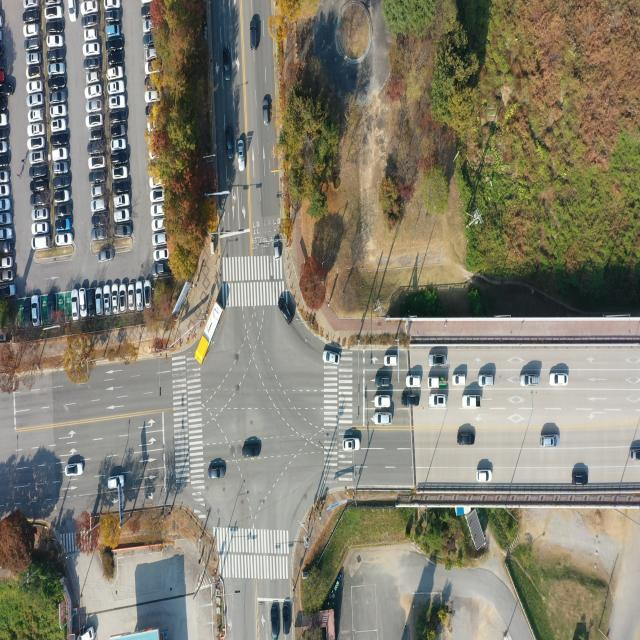car: (278, 298, 293, 326), (51, 132, 71, 148), (250, 17, 259, 51), (0, 284, 16, 301), (106, 36, 123, 52), (222, 51, 231, 81), (550, 374, 569, 388), (271, 607, 279, 640), (46, 293, 55, 322), (108, 474, 124, 490), (242, 446, 260, 460), (540, 436, 558, 450), (79, 626, 97, 640), (32, 297, 40, 327), (283, 606, 291, 636), (32, 237, 49, 251), (429, 394, 446, 408), (45, 6, 62, 20), (322, 352, 339, 366), (375, 414, 393, 427), (66, 463, 84, 476), (522, 375, 540, 388), (401, 394, 419, 407), (84, 0, 100, 14), (109, 97, 125, 111), (24, 25, 40, 39), (110, 126, 126, 140), (108, 52, 124, 66), (238, 140, 245, 172), (24, 300, 32, 328), (344, 440, 361, 453), (111, 168, 128, 181), (225, 127, 232, 158), (428, 355, 446, 367), (462, 396, 480, 408), (128, 284, 136, 311), (50, 76, 68, 88), (106, 25, 121, 39), (25, 38, 40, 52), (572, 471, 587, 485), (153, 264, 168, 278), (88, 155, 103, 169), (48, 63, 64, 76), (28, 95, 44, 108), (376, 395, 392, 408), (56, 219, 72, 232), (458, 435, 474, 448), (56, 190, 72, 203), (57, 205, 73, 218), (29, 151, 45, 164), (56, 177, 72, 190), (113, 181, 129, 194), (110, 112, 126, 125), (57, 235, 74, 247), (208, 467, 225, 479), (30, 241, 47, 253), (46, 23, 63, 35), (71, 290, 78, 318), (88, 86, 102, 100), (136, 282, 143, 310), (78, 290, 85, 318), (264, 98, 271, 126), (54, 148, 69, 161), (109, 83, 124, 96), (478, 469, 493, 482), (110, 139, 125, 152), (53, 119, 68, 132), (89, 114, 104, 127), (86, 58, 101, 71), (0, 83, 13, 98), (479, 376, 495, 388), (33, 210, 49, 222), (52, 93, 68, 105), (113, 197, 129, 209), (52, 106, 68, 118), (48, 36, 64, 48), (114, 227, 130, 239), (85, 43, 101, 55), (29, 138, 45, 150), (32, 196, 48, 208), (90, 172, 106, 184), (105, 10, 121, 22), (31, 166, 47, 178), (24, 10, 40, 22), (111, 153, 127, 165), (47, 48, 63, 60), (144, 280, 151, 307), (69, 0, 78, 21), (92, 230, 106, 243), (150, 189, 164, 202), (154, 235, 168, 248), (119, 285, 126, 311), (142, 35, 155, 49), (28, 80, 43, 92), (33, 222, 48, 234), (452, 375, 467, 387), (29, 126, 44, 138), (407, 376, 422, 388), (108, 68, 123, 80), (376, 378, 391, 390), (55, 164, 70, 176), (88, 101, 103, 113), (275, 237, 282, 262), (145, 92, 158, 105), (92, 202, 106, 214), (114, 210, 128, 222), (100, 250, 114, 262), (27, 54, 41, 66), (30, 110, 44, 122), (32, 180, 46, 192), (112, 286, 118, 314), (104, 286, 110, 314), (90, 130, 104, 142), (90, 142, 104, 154), (146, 62, 158, 76), (89, 289, 95, 317), (96, 289, 102, 316), (0, 230, 13, 242), (85, 29, 98, 41), (156, 250, 169, 262), (28, 67, 41, 79), (85, 14, 99, 25), (92, 215, 106, 226), (629, 448, 640, 462), (0, 198, 11, 212), (0, 214, 12, 226), (152, 219, 164, 231), (151, 206, 163, 218), (104, 0, 120, 9), (0, 126, 9, 142), (1, 272, 14, 283), (0, 258, 13, 269), (88, 72, 101, 83), (92, 186, 104, 197), (385, 356, 398, 366), (0, 185, 10, 198), (0, 155, 9, 169), (142, 22, 152, 34), (150, 178, 162, 188), (0, 113, 8, 127), (142, 6, 152, 17), (146, 51, 156, 62), (0, 172, 9, 184), (0, 141, 8, 154), (25, 0, 38, 8), (0, 99, 8, 112), (45, 0, 61, 6), (0, 68, 5, 82), (145, 76, 149, 90)
large_bus: (197, 305, 224, 367)
small_truck: (430, 378, 447, 389), (0, 243, 14, 255)
